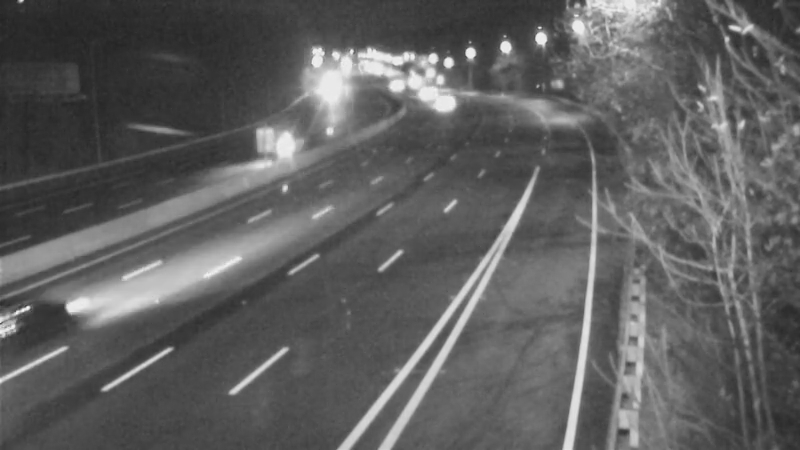vehicle: (387, 60, 437, 110), (369, 58, 419, 108), (399, 66, 449, 116), (420, 79, 470, 129), (256, 124, 306, 174)
